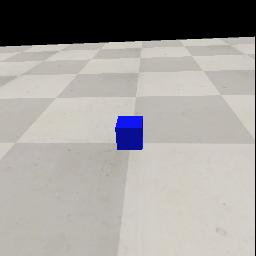box: (115, 116, 143, 150)
